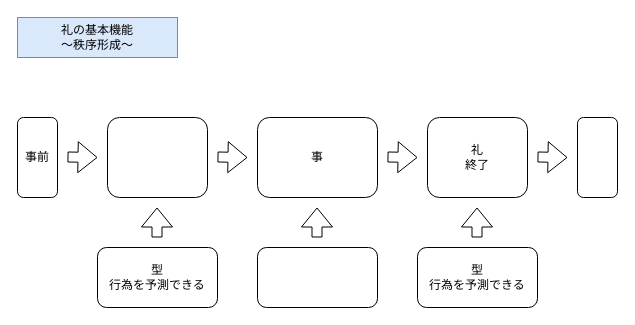
The diagram is 635 pixels wide and 325 high, and some of its shapes have lost their labels. Here are the shapes that lost their labels. From the top down, the centre of each, then its label:
At (x=157, y=157): "礼 開始".
At (x=597, y=157): "事後".
At (x=317, y=277): "場の秩序ができる".
